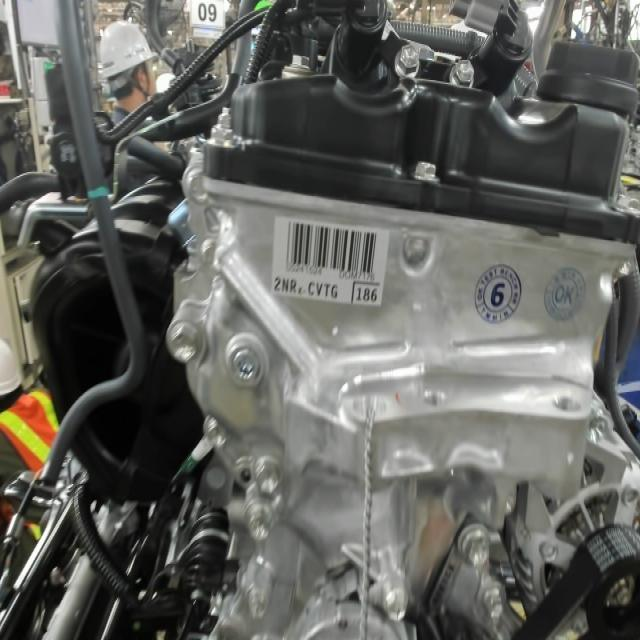Engine Assy-186: (350, 278, 383, 314)
Hose Canister-HJ: (86, 181, 112, 207)
